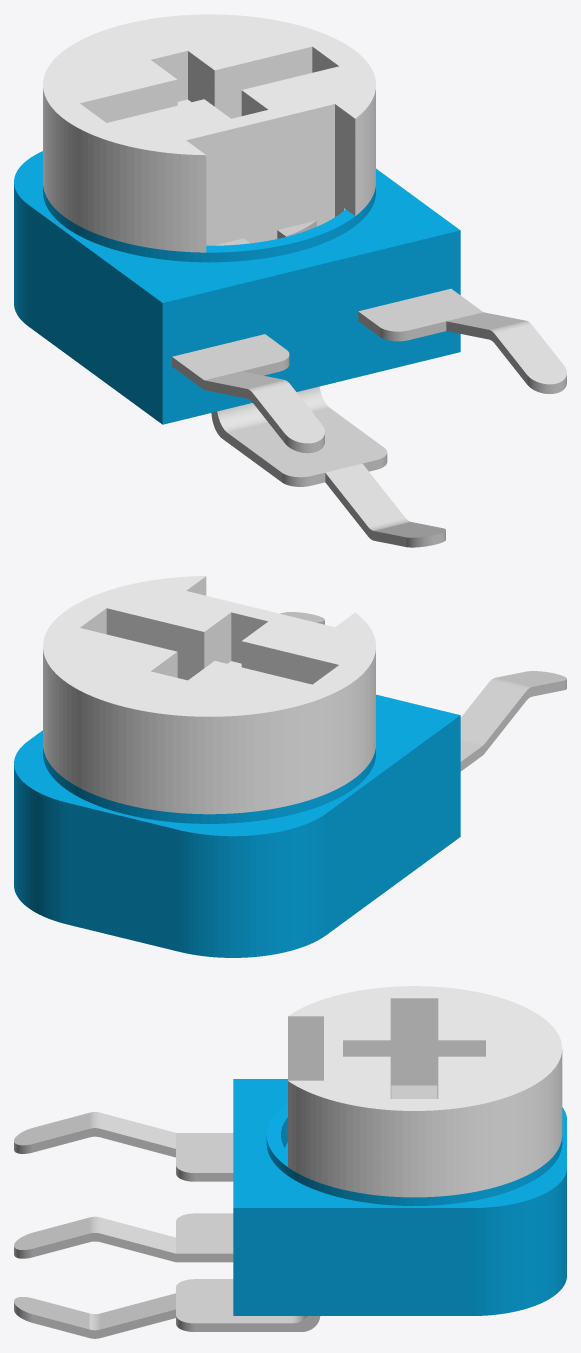
Rendered from pot-small.glb.
The picture shows the model from 3 angles, top to bottom: view 1: azimuth 30°, elevation 25°; view 2: azimuth 150°, elevation 25°; view 3: azimuth 270°, elevation 25°; orthographic projection. The views are drawn at different scales.
Visible parts, largest first — view 1: Node2, Node5, Node1, Node4, Node3; view 2: Node2, Node5, Node1, Node4; view 3: Node2, Node5, Node1, Node4, Node3.
Part boxes in pixels (x1,y1,x2,y2): Node2: (43,14,375,252); Node5: (14,151,460,424); Node1: (172,220,566,547); Node4: (43,186,375,262); Node3: (375,522,445,537); Node2: (43,576,375,814); Node5: (14,694,460,957); Node1: (280,612,566,771); Node4: (43,747,375,823); Node2: (288,986,562,1197); Node5: (233,1079,566,1315); Node1: (14,1085,437,1338); Node4: (266,1103,562,1205); Node3: (14,1297,89,1329).
Size of the model in its own units: 6.4 by 6.53 by 11.6.
